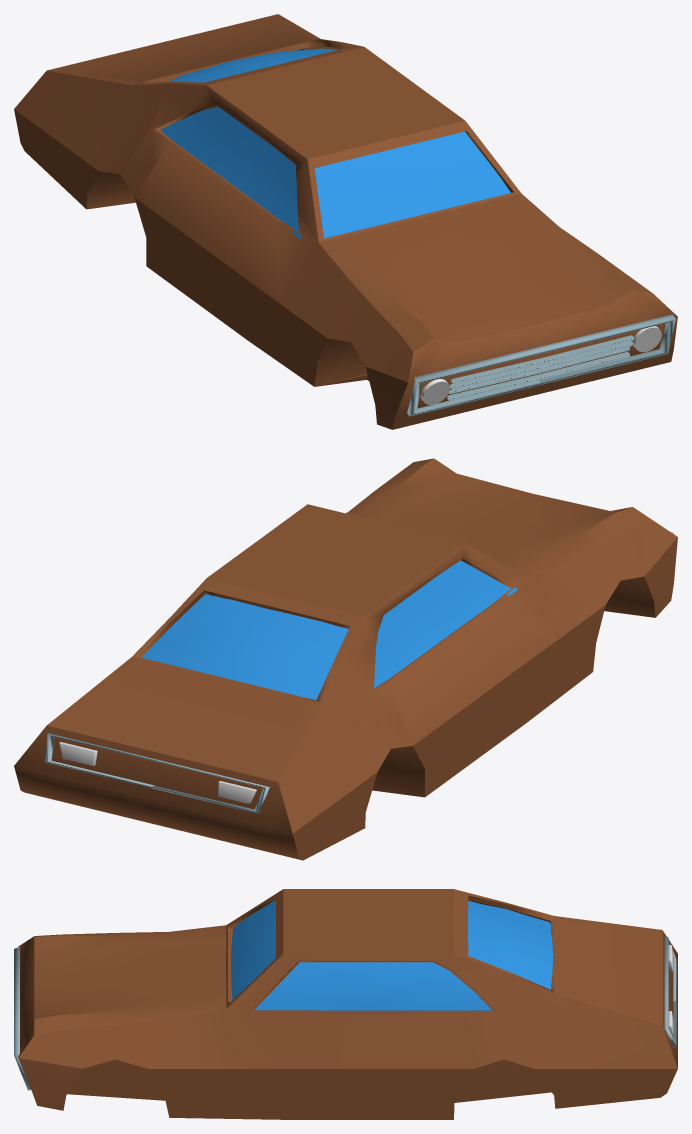
Rendered from carro_jugador.fbx.
The picture shows the model from 3 angles, top to bottom: view 1: azimuth 30°, elevation 25°; view 2: azimuth 150°, elevation 25°; view 3: azimuth 270°, elevation 25°; orthographic projection. The views are drawn at different scales.
Visible parts, largest first — view 1: Cube, Plane.007, Plane.009, Plane, Plane.010, Plane.002, Plane.003, Plane.004, Plane.001; view 2: Cube, Plane.010, Plane.009, Plane.005, Plane.006; view 3: Cube, Plane.008, Plane.010, Plane.007, Plane.005, Plane.
Boxes of the visible parts, x1,y1,x2,y2 form: Cube: (14,14,677,429); Plane.007: (314,131,510,238); Plane.009: (160,107,301,239); Plane: (407,314,675,416); Plane.010: (168,48,337,82); Plane.002: (447,351,629,400); Plane.003: (451,335,633,383); Plane.004: (450,341,632,389); Plane.001: (449,347,629,394); Cube: (14,458,677,860); Plane.010: (142,594,348,700); Plane.009: (374,560,517,688); Plane.005: (45,733,269,813); Plane.006: (59,742,256,803); Cube: (18,889,677,1119); Plane.008: (254,962,492,1010); Plane.010: (468,901,553,989); Plane.007: (231,900,275,999); Plane.005: (664,937,676,1047); Plane: (14,947,30,1090).
Size of the model in its own units: 157 by 92.43 by 382.
